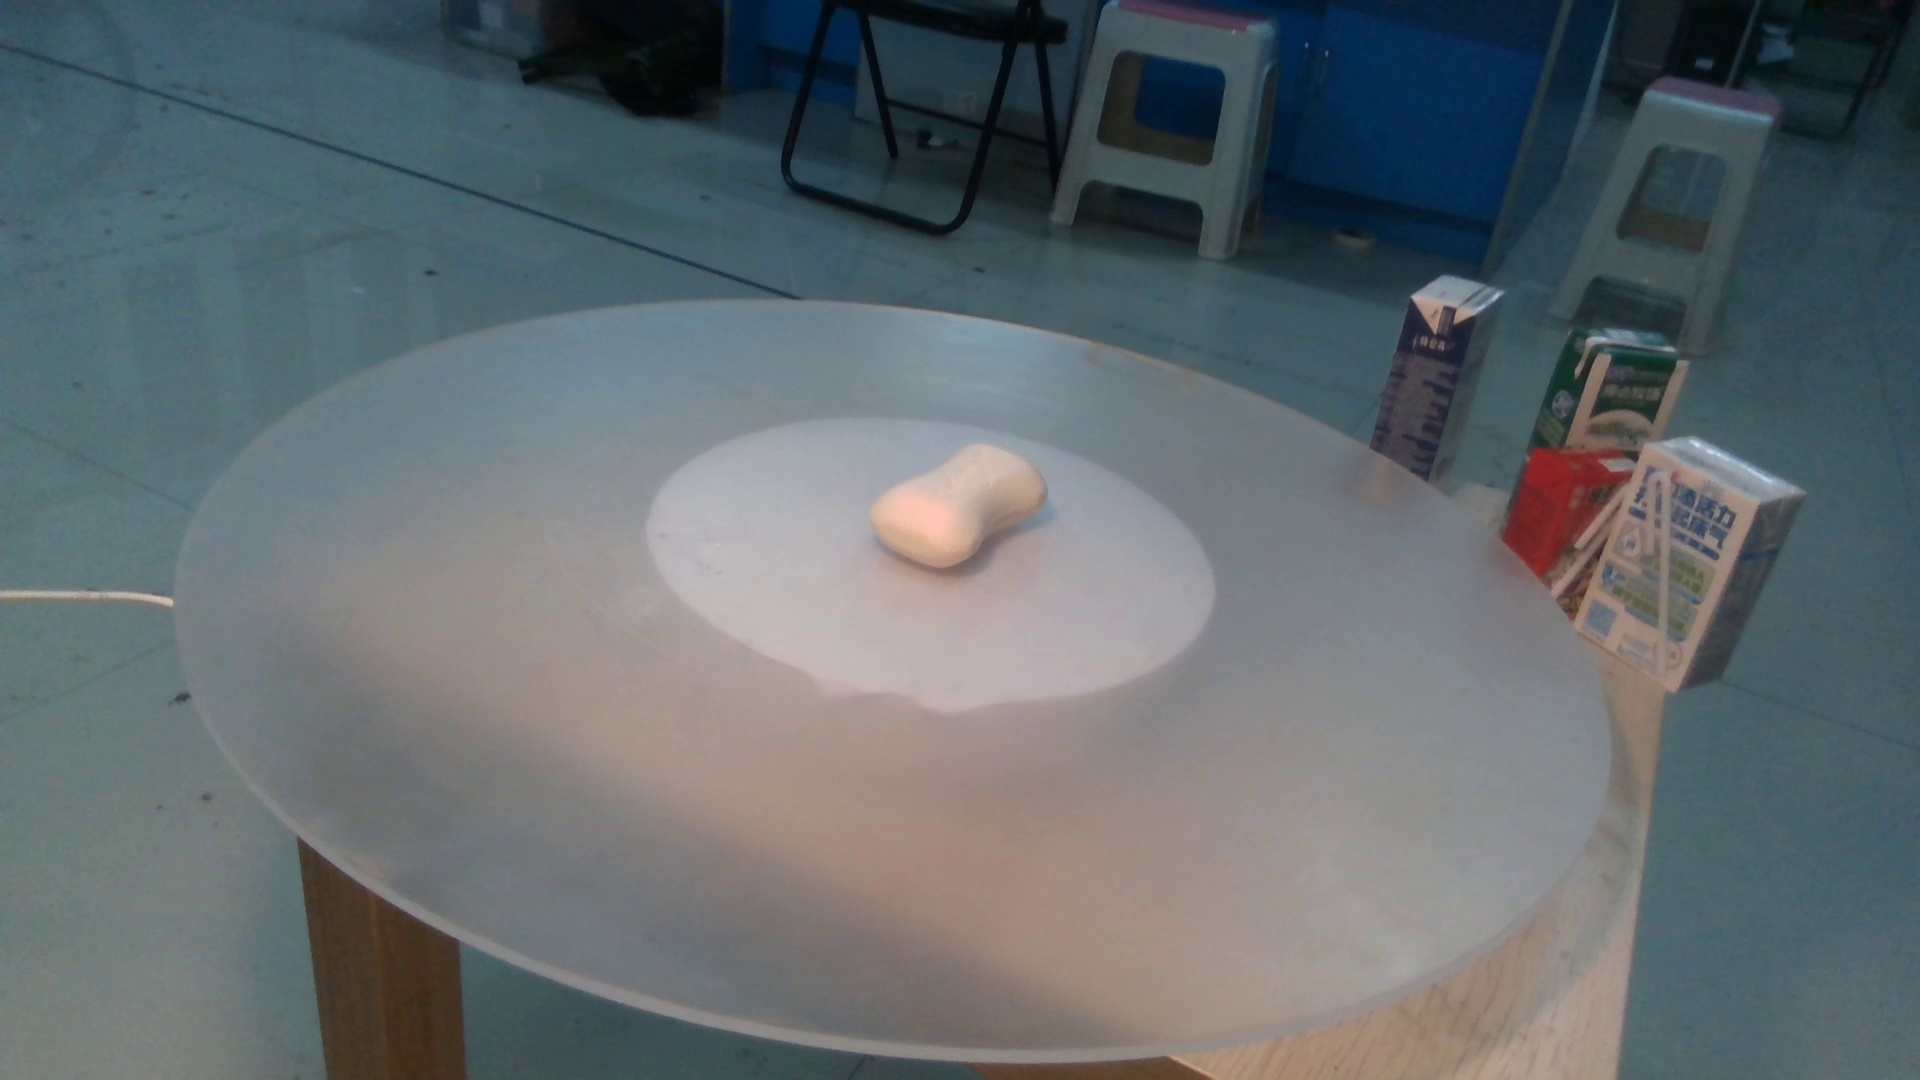CA003_1: (828, 422, 1068, 580)
